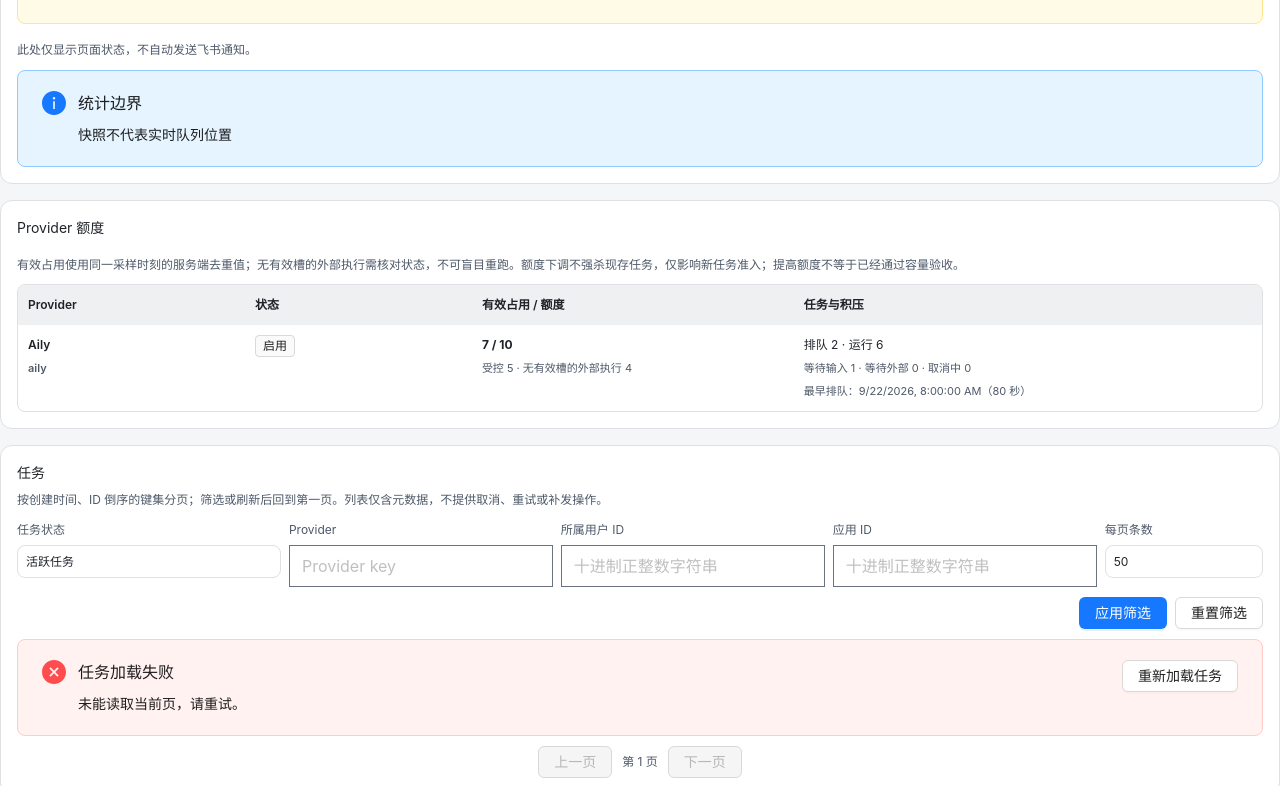
Test: operations console › handles task failure independently without rendering a false empty state
(page scrolled)
Click the button "重新加载任务". click: (1180,676)
box: [1122,660,1238,692]
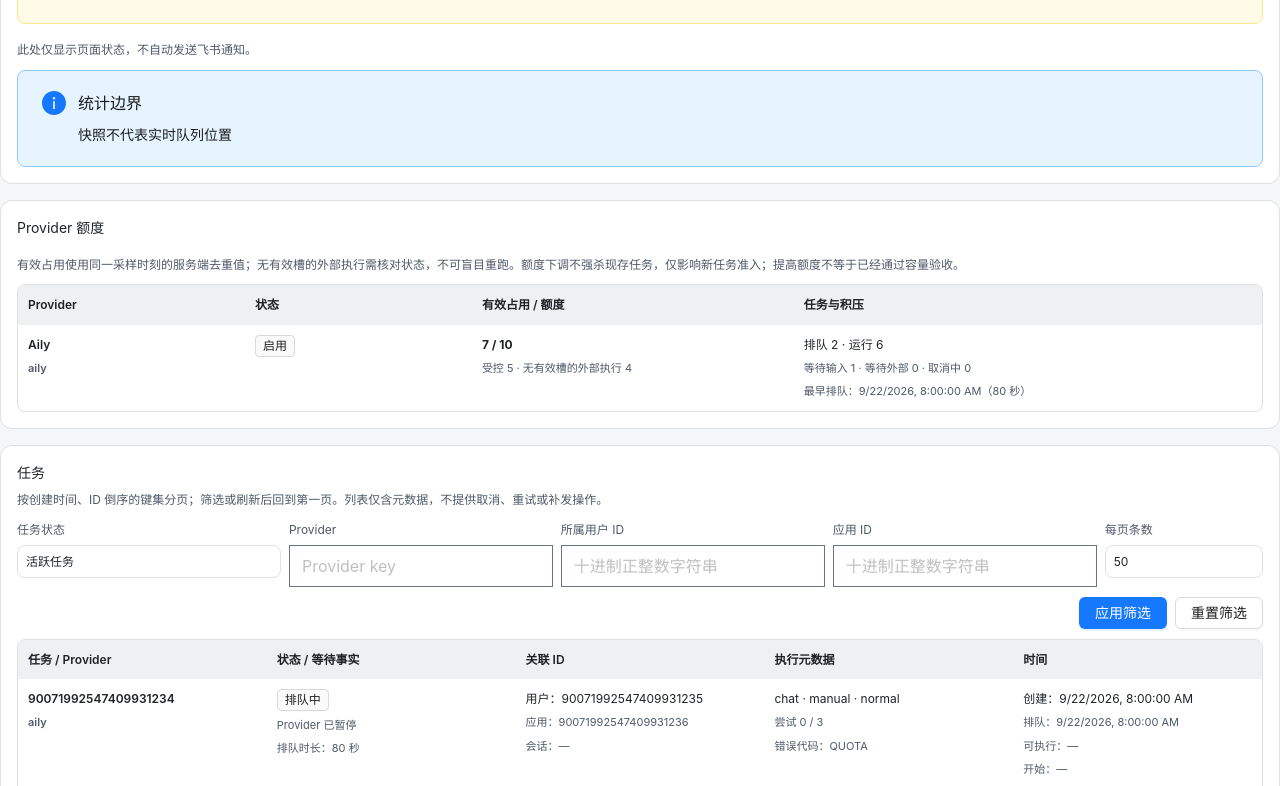
Check: the text "90071992547409931234" is shown, box [28,691,175,706]
